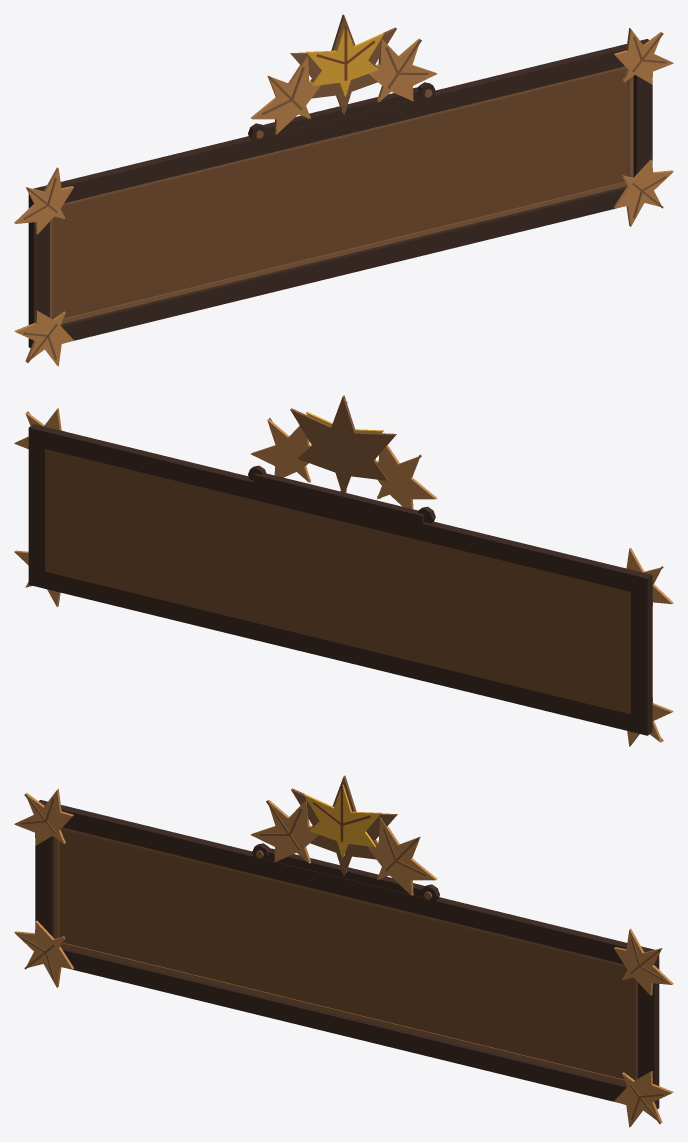
File: CatCafe_Plot_SignMapleBoard.glb
3 renders of one model, top to bottom at view 1: azimuth 30°, elevation 25°; view 2: azimuth 150°, elevation 25°; view 3: azimuth 330°, elevation 25°, orthographic.
Parts seen in each view (by area): view 1: CatCafe_Plot_SignMapleBoard_SignBoard, CatCafe_Plot_SignMapleBoard_Frame, CatCafe_Plot_SignMapleBoard; view 2: CatCafe_Plot_SignMapleBoard_SignBoard, CatCafe_Plot_SignMapleBoard_Frame, CatCafe_Plot_SignMapleBoard; view 3: CatCafe_Plot_SignMapleBoard_SignBoard, CatCafe_Plot_SignMapleBoard_Frame, CatCafe_Plot_SignMapleBoard.
Part boxes in pixels (x1,y1,x2,y2): CatCafe_Plot_SignMapleBoard_SignBoard: (52,68,628,319); CatCafe_Plot_SignMapleBoard_Frame: (28,39,652,347); CatCafe_Plot_SignMapleBoard: (14,14,673,366); CatCafe_Plot_SignMapleBoard_SignBoard: (45,449,630,714); CatCafe_Plot_SignMapleBoard_Frame: (28,424,652,735); CatCafe_Plot_SignMapleBoard: (14,395,673,746); CatCafe_Plot_SignMapleBoard_SignBoard: (59,829,635,1080); CatCafe_Plot_SignMapleBoard_Frame: (35,800,659,1108); CatCafe_Plot_SignMapleBoard: (14,775,673,1127).
Bounding box in the file's own units: 17.97 × 7.34 × 0.384.
1 material, 1 textured.
